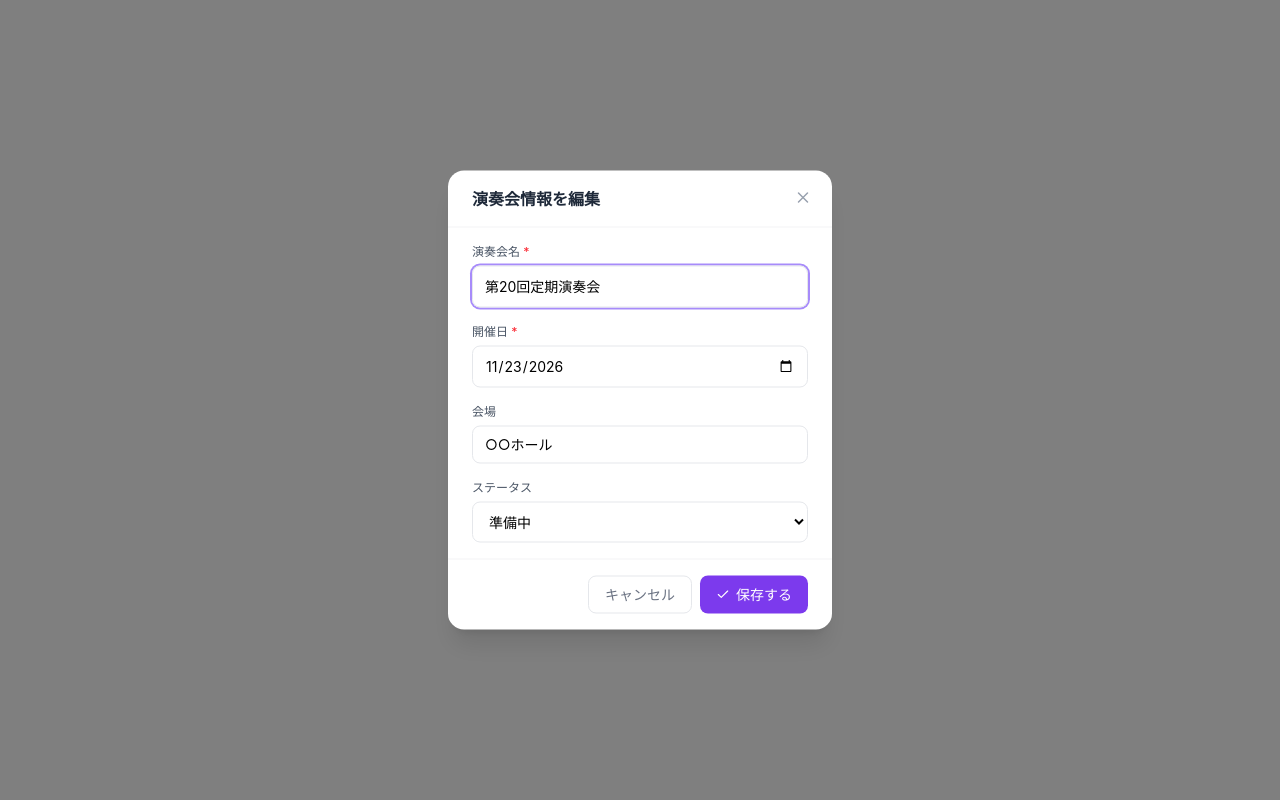
Test: EditConcertModal（バリデーション） › 演奏会名を空にして送信するとエラーメッセージを表示する
Clear the field showing "第20回定期演奏会" at (640, 286), box left=472, top=266, right=808, bottom=308
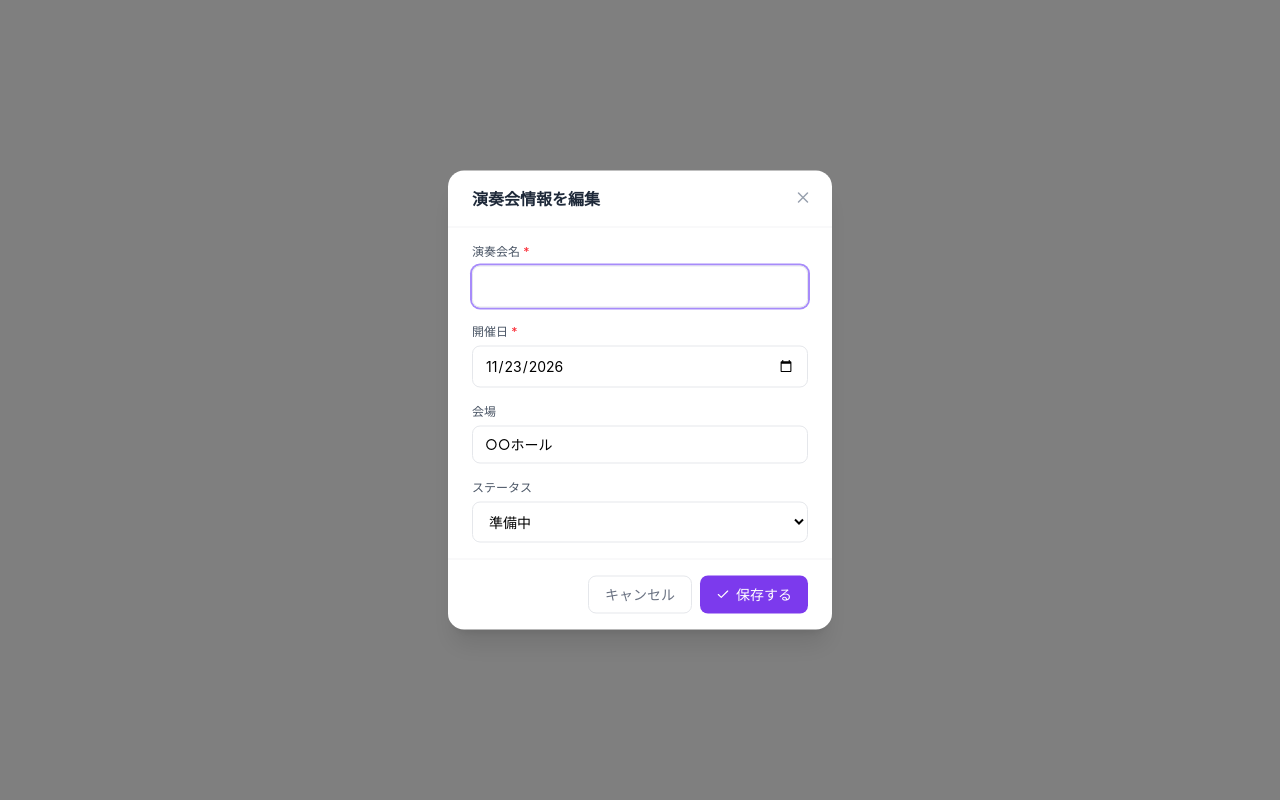
Click the button "保存する" at (754, 594), box left=700, top=576, right=808, bottom=614
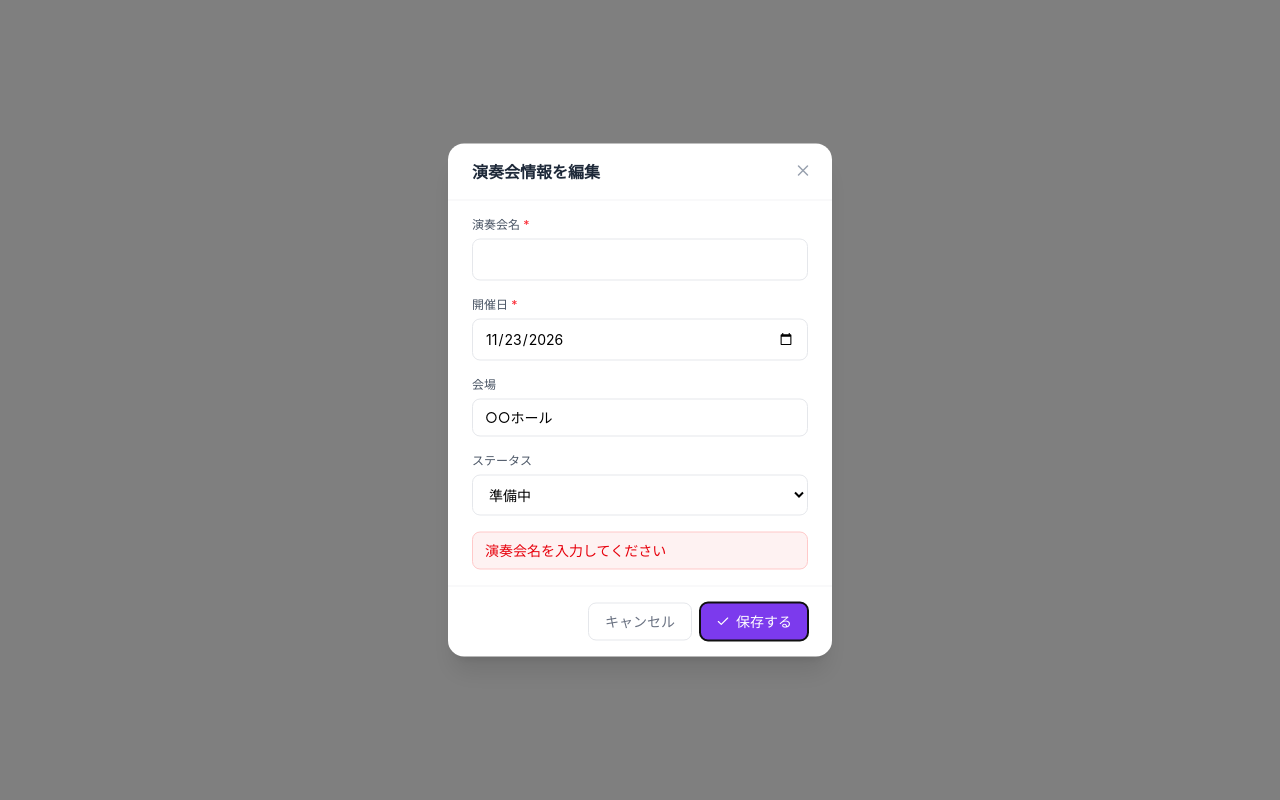
Result: the text "演奏会名を入力してください" is shown at left=472, top=532, right=808, bottom=570
